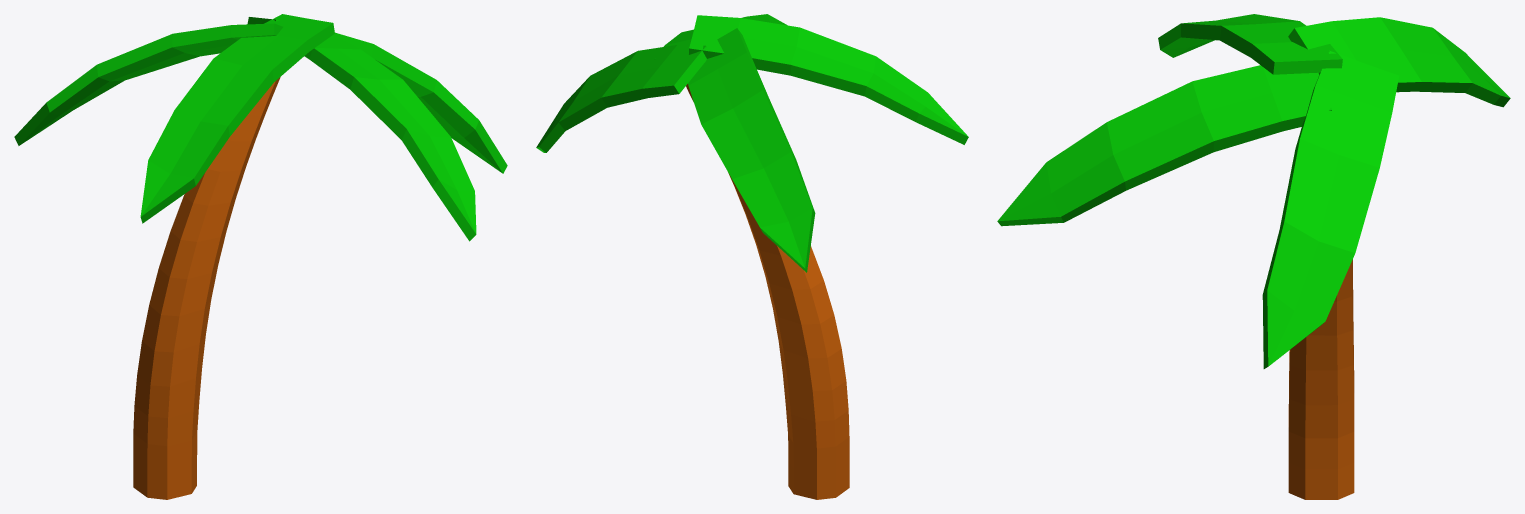
The model's file is tree_palm.obj.
3 renders of one model, left to right at view 1: azimuth 30°, elevation 25°; view 2: azimuth 150°, elevation 25°; view 3: azimuth 270°, elevation 25°, orthographic. The views are drawn at different scales.
Visible parts, largest first — view 1: Cube.002, Cube; view 2: Cube.002, Cube; view 3: Cube.002, Cube.
Part boxes in pixels (box(x1,y1,x2,y2)): Cube.002: box(14, 14, 507, 241); Cube: box(133, 77, 280, 499); Cube.002: box(536, 14, 968, 272); Cube: box(686, 84, 849, 499); Cube.002: box(997, 14, 1510, 368); Cube: box(1288, 259, 1354, 499).
Bounding box in the file's own units: 16.5 × 17.23 × 15.65.
